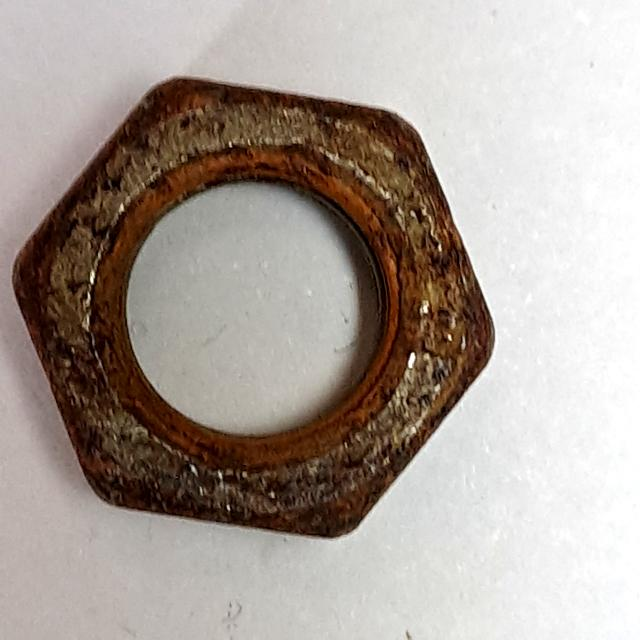Rust: (6, 67, 505, 556)
